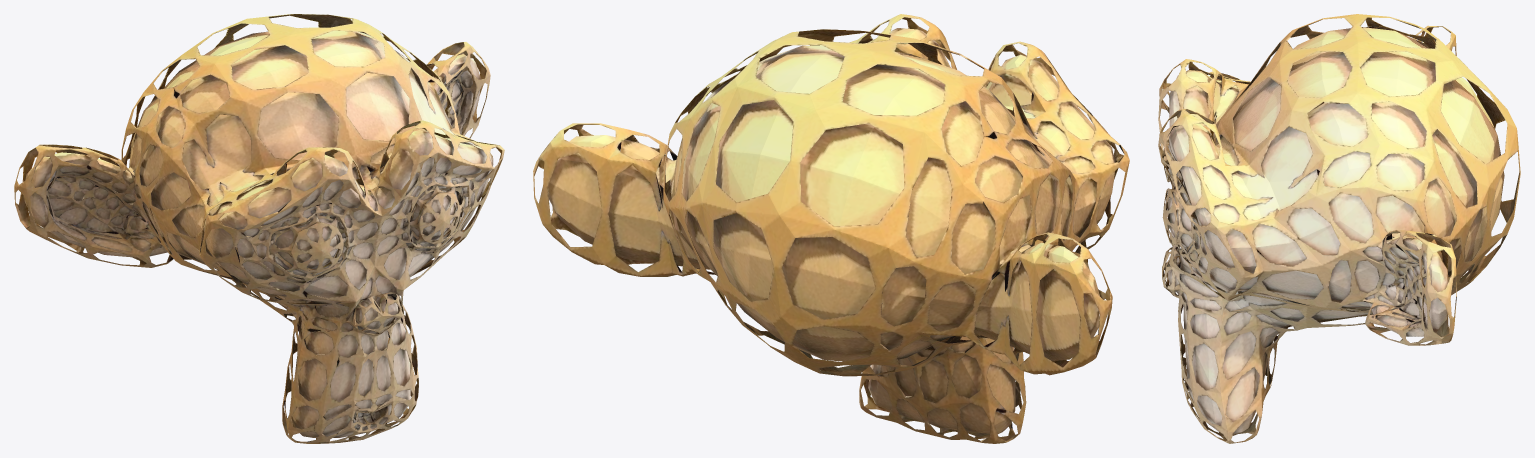
Rendered from model_suzanne_prod.glb.
3 views of the same model, side by side, from view 1: azimuth 30°, elevation 25°; view 2: azimuth 150°, elevation 25°; view 3: azimuth 270°, elevation 25° (orthographic). The views are drawn at different scales.
Parts seen in each view (by area): view 1: Suzanne_Mesh.002; view 2: Suzanne_Mesh.002; view 3: Suzanne_Mesh.002.
Boxes of the visible parts, left/top/right/bottom form: Suzanne_Mesh.002: left=14, top=14, right=504, bottom=443; Suzanne_Mesh.002: left=533, top=14, right=1129, bottom=443; Suzanne_Mesh.002: left=1158, top=14, right=1520, bottom=443.
Bounding box in the file's own units: 5.49 × 3.99 × 3.44.
1 material, 1 textured.
